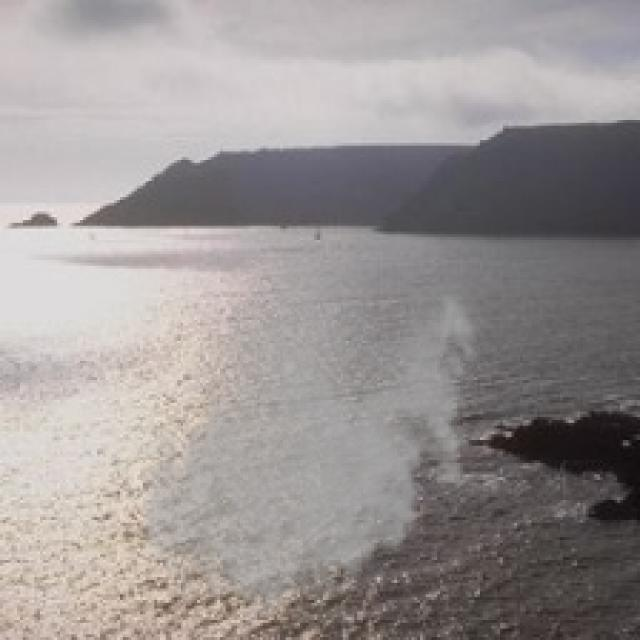smoke: (134, 248, 489, 632)
